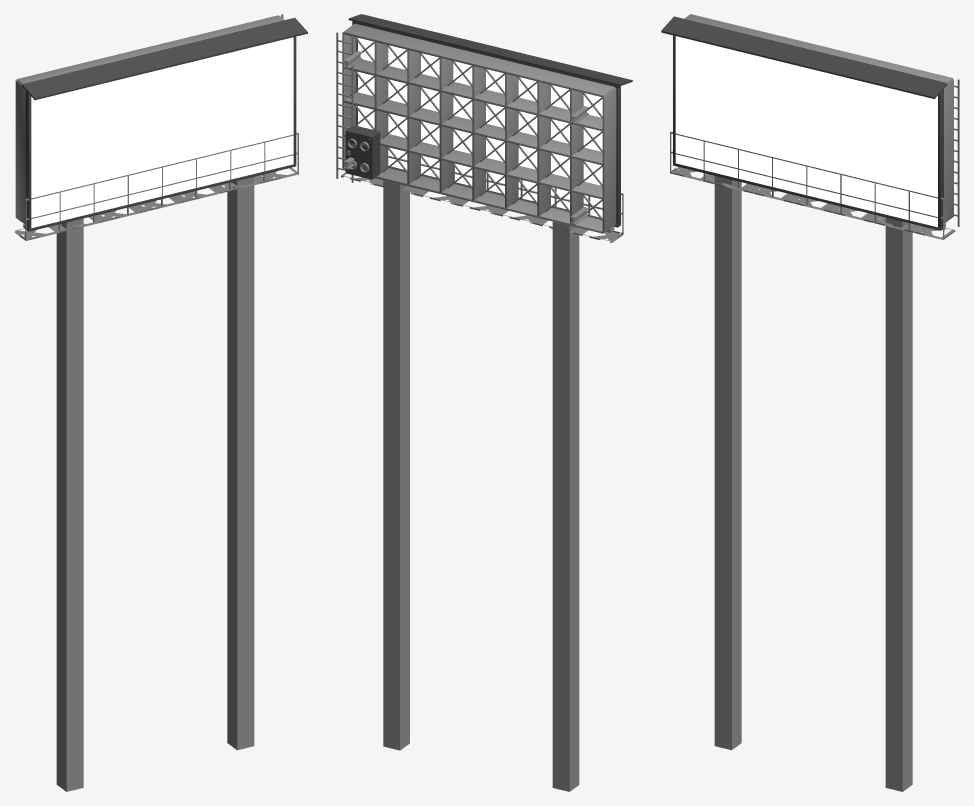
Rendered from led-cabinet.glb.
3 views of the same model, side by side, from view 1: azimuth 30°, elevation 25°; view 2: azimuth 150°, elevation 25°; view 3: azimuth 330°, elevation 25° (orthographic).
Visible parts, largest first — view 1: LED_FACE, LED_SUPPORT, LED_CABINET; view 2: LED_CABINET, LED_SUPPORT, LED_FACE; view 3: LED_FACE, LED_SUPPORT, LED_CABINET.
Boxes of the visible parts, x1,y1,x2,y2 form: LED_FACE: [31, 37, 293, 228]; LED_SUPPORT: [56, 177, 254, 791]; LED_CABINET: [14, 14, 307, 240]; LED_CABINET: [336, 14, 632, 242]; LED_SUPPORT: [383, 180, 579, 791]; LED_FACE: [358, 37, 602, 217]; LED_FACE: [675, 36, 937, 227]; LED_SUPPORT: [714, 176, 912, 791]; LED_CABINET: [661, 14, 959, 239].
Size of the model in its own units: 8 by 20.07 by 1.91.
4 materials, 1 textured.
